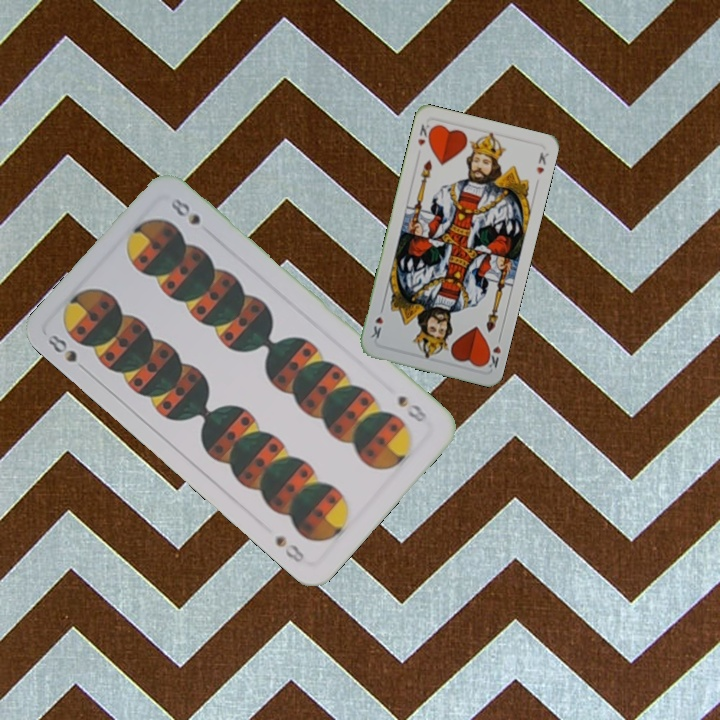HK: (480, 331, 504, 371), (414, 120, 435, 148)
S8: (43, 330, 92, 376), (393, 391, 430, 425)
